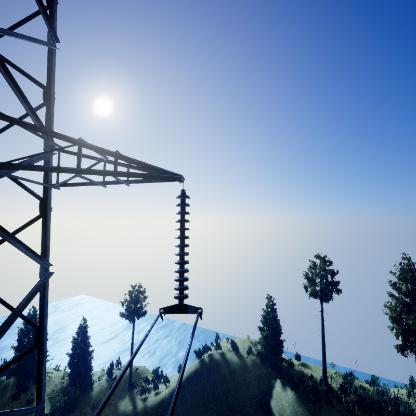insulator: (174, 190, 191, 303)
